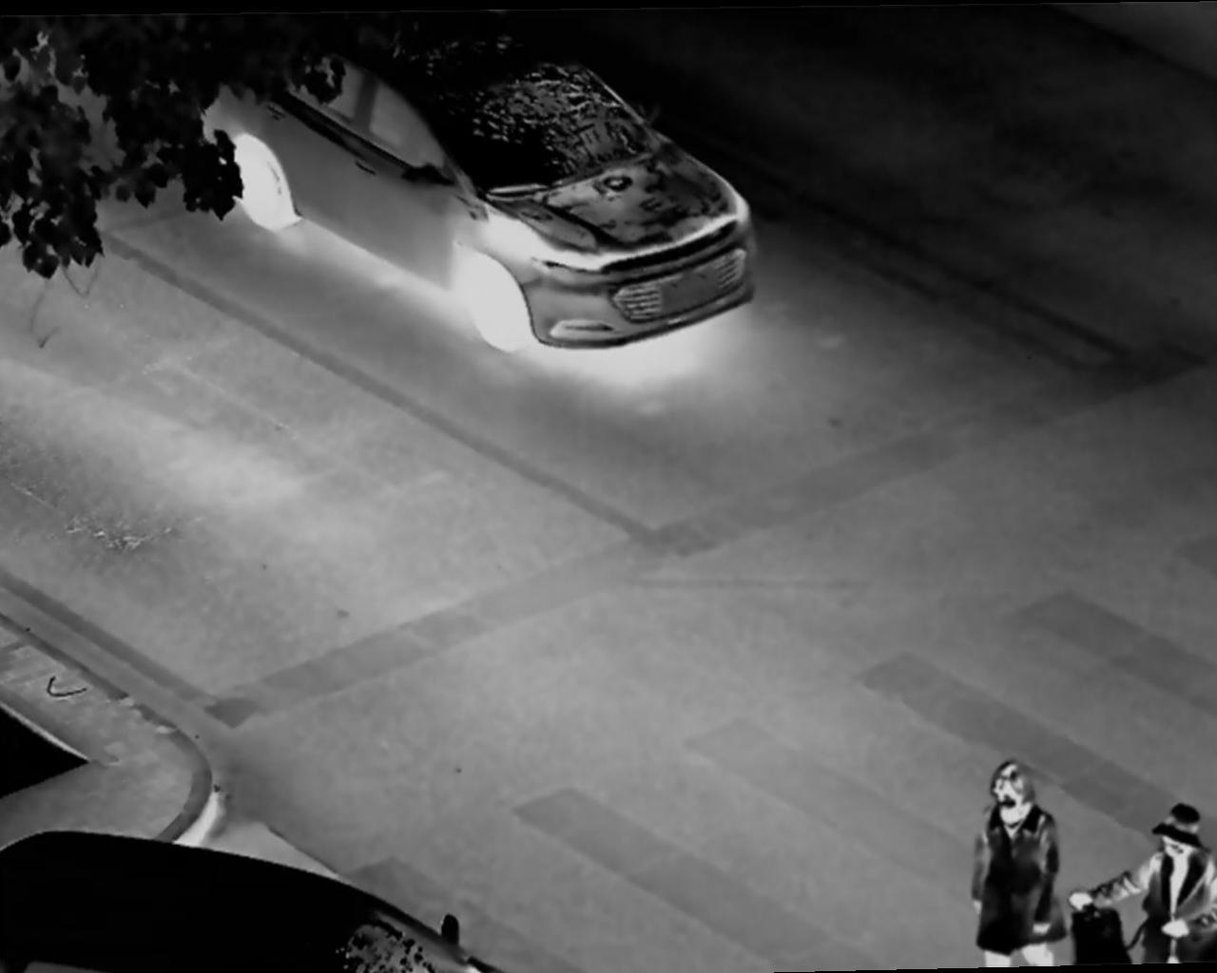person: (1066, 797, 1217, 966), (968, 756, 1072, 954)
